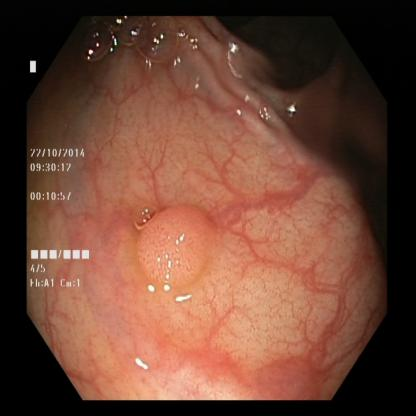Labels: (25, 140, 98, 293)
Polyps: (134, 206, 215, 290)
